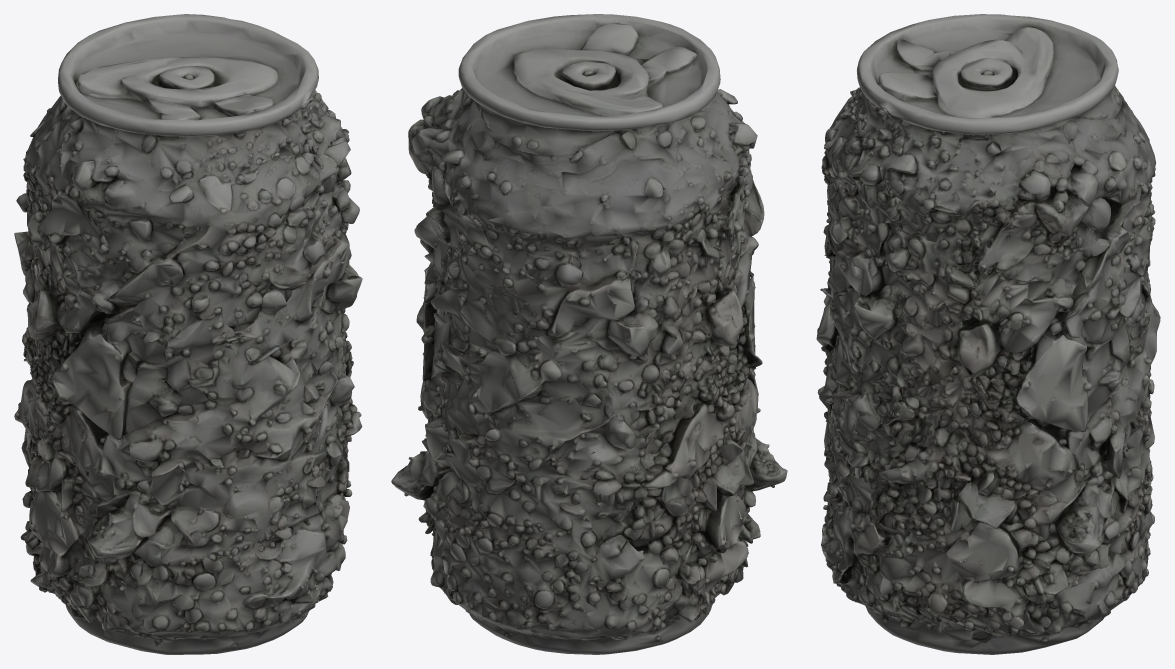
File: crushed_can_fossil.glb
3 renders of one model, left to right at view 1: azimuth 30°, elevation 25°; view 2: azimuth 150°, elevation 25°; view 3: azimuth 270°, elevation 25°, orthographic.
Parts seen in each view (by area): view 1: tripo_node_bcf2bf0e-eac7-4488-b2f3-ff4ea73a7171; view 2: tripo_node_bcf2bf0e-eac7-4488-b2f3-ff4ea73a7171; view 3: tripo_node_bcf2bf0e-eac7-4488-b2f3-ff4ea73a7171.
Boxes of the visible parts, box(x1,y1,x2,y2) form: tripo_node_bcf2bf0e-eac7-4488-b2f3-ff4ea73a7171: box(14, 14, 362, 654); tripo_node_bcf2bf0e-eac7-4488-b2f3-ff4ea73a7171: box(391, 14, 787, 654); tripo_node_bcf2bf0e-eac7-4488-b2f3-ff4ea73a7171: box(816, 14, 1160, 654).
Size of the model in its own units: 0.5935 by 0.9997 by 0.5744.
1 material, 1 textured.
